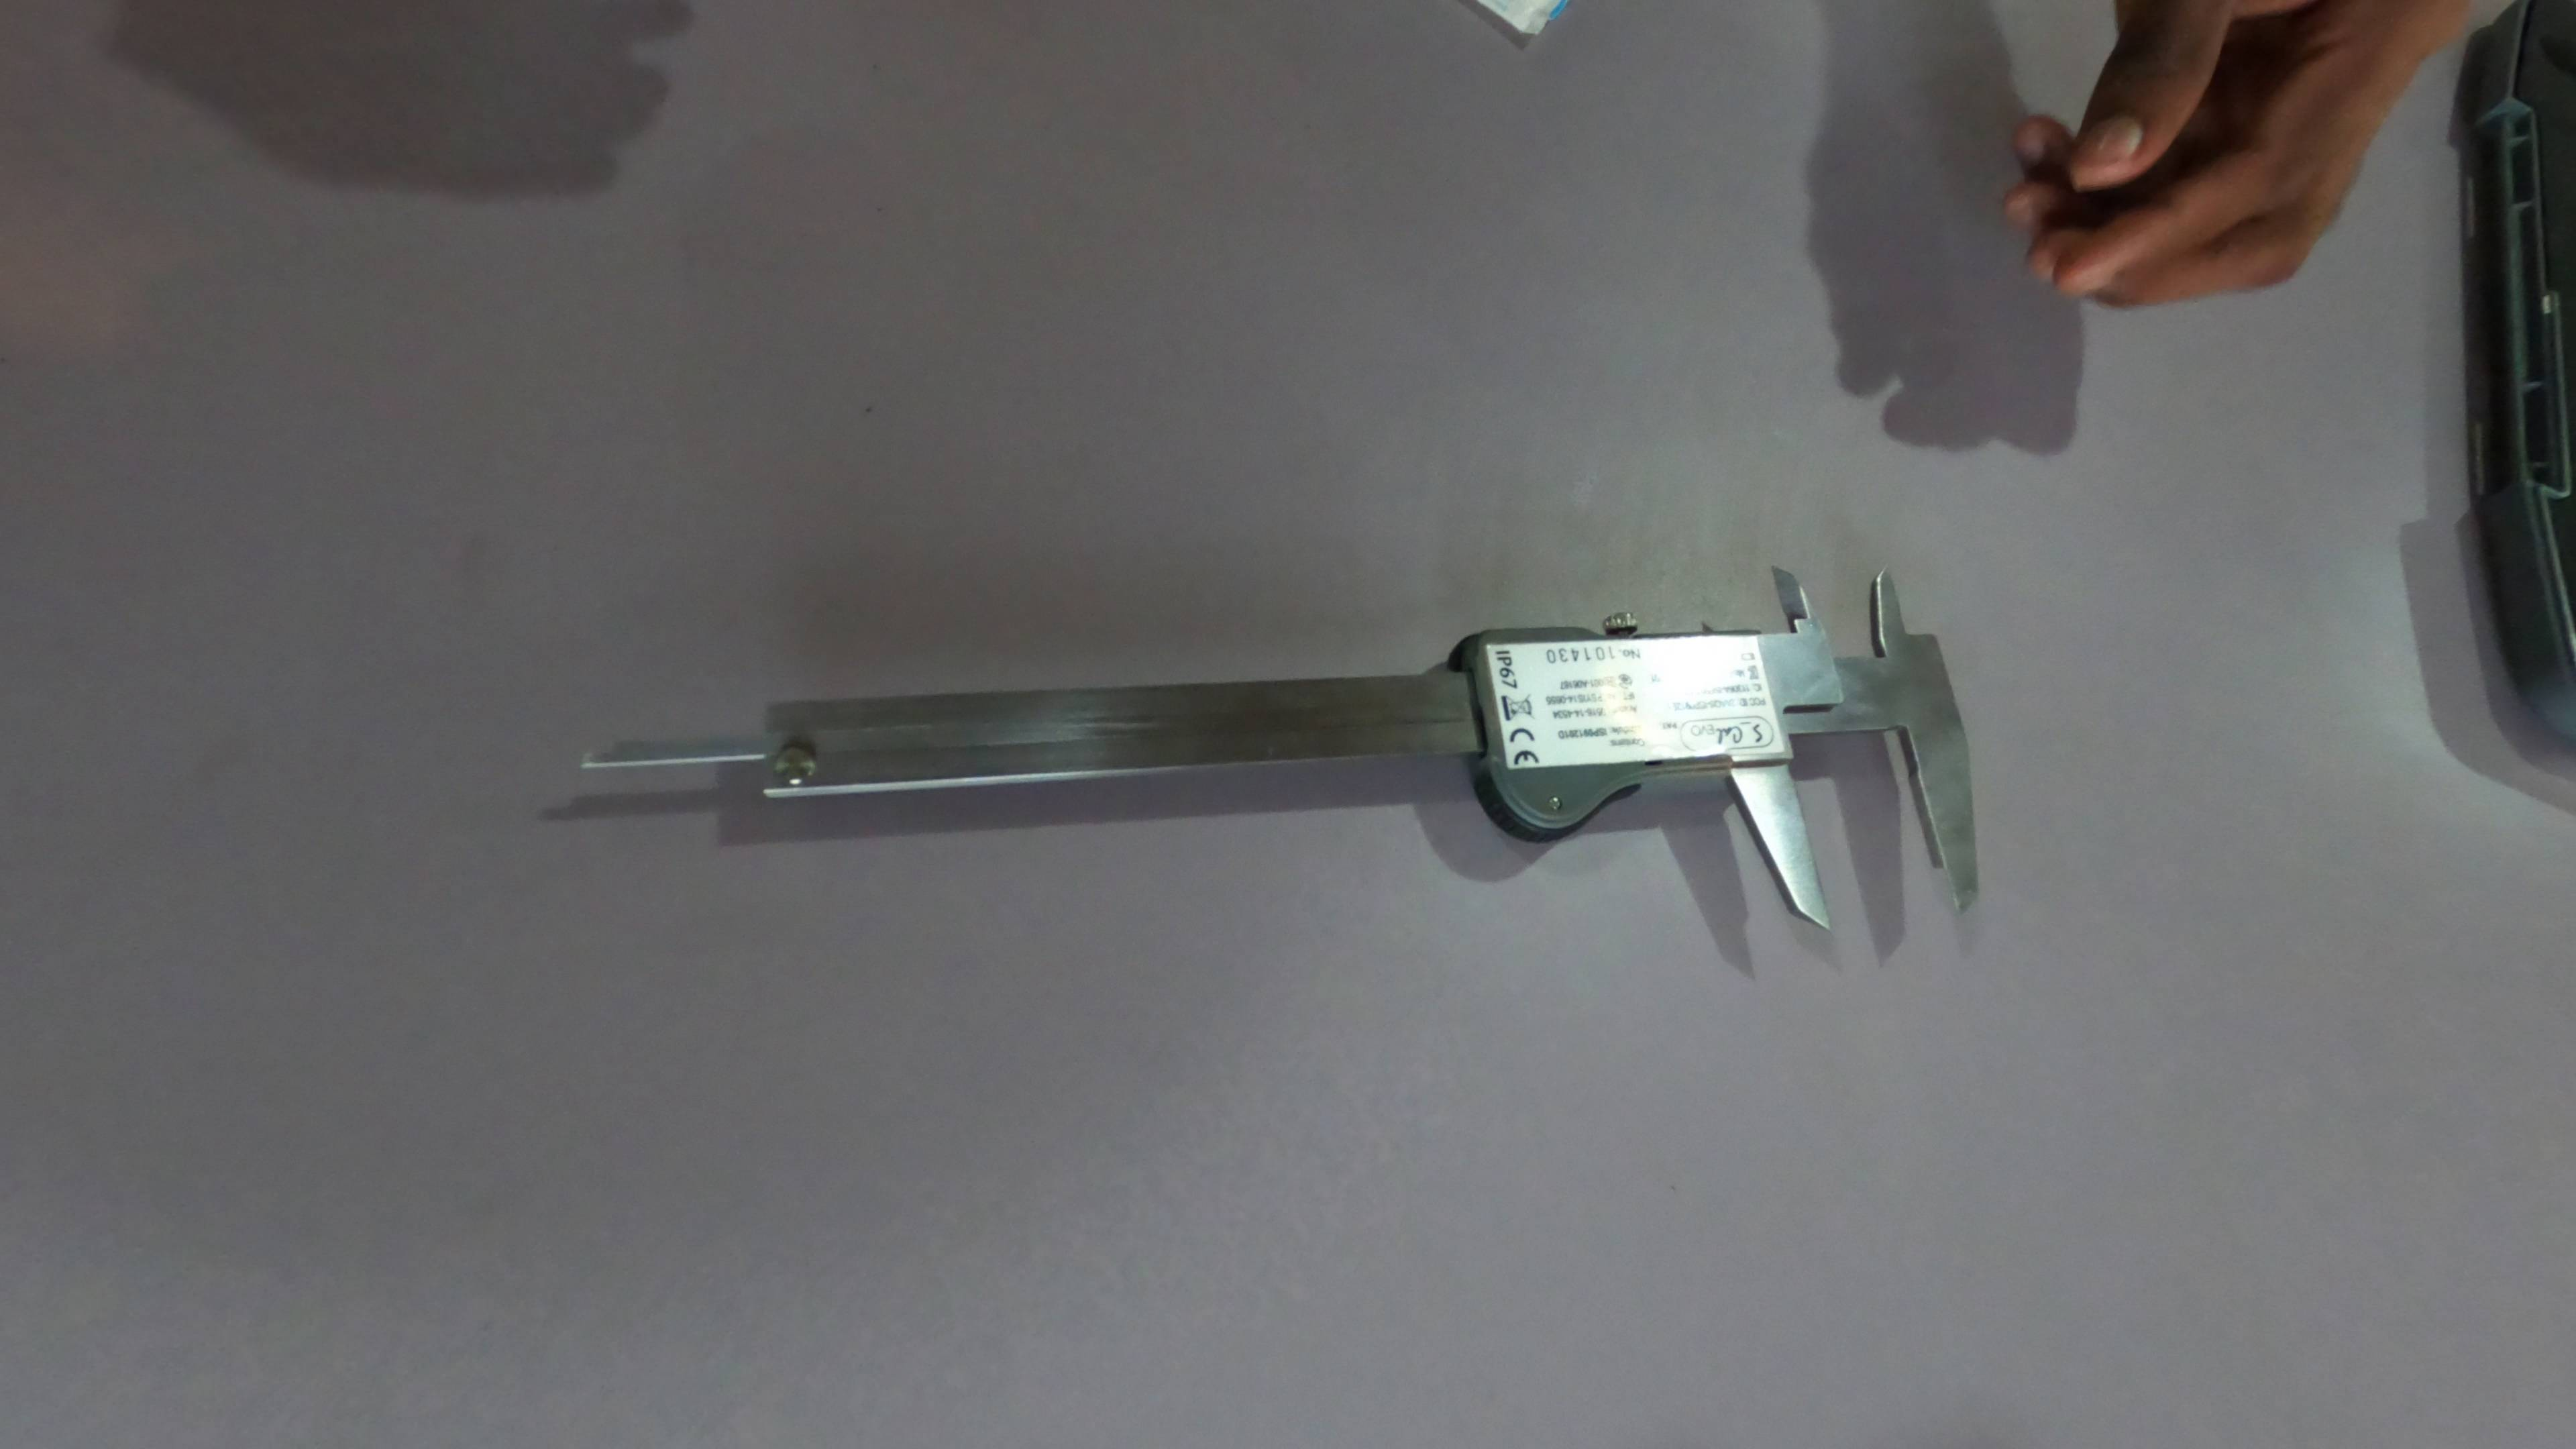vernier_caliper: (575, 559, 1994, 947)
